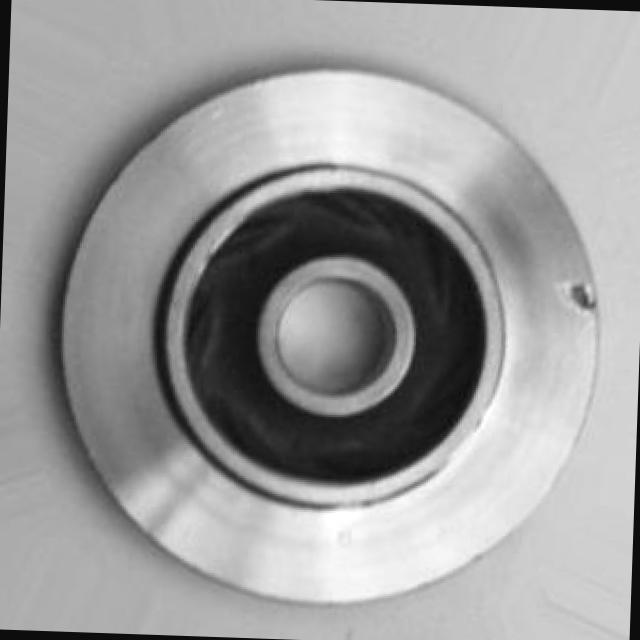Defect: (556, 267, 598, 330)
